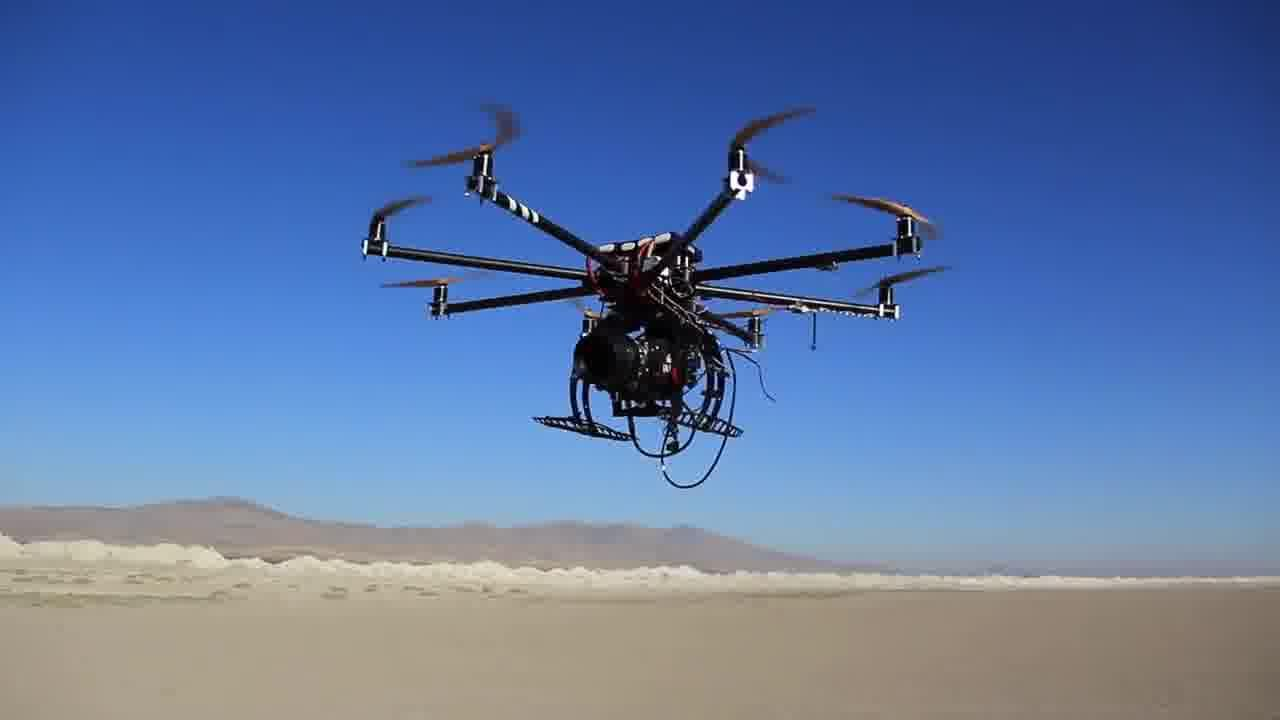drone: (342, 80, 855, 461)
